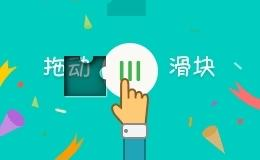target: (41, 34, 85, 76)
